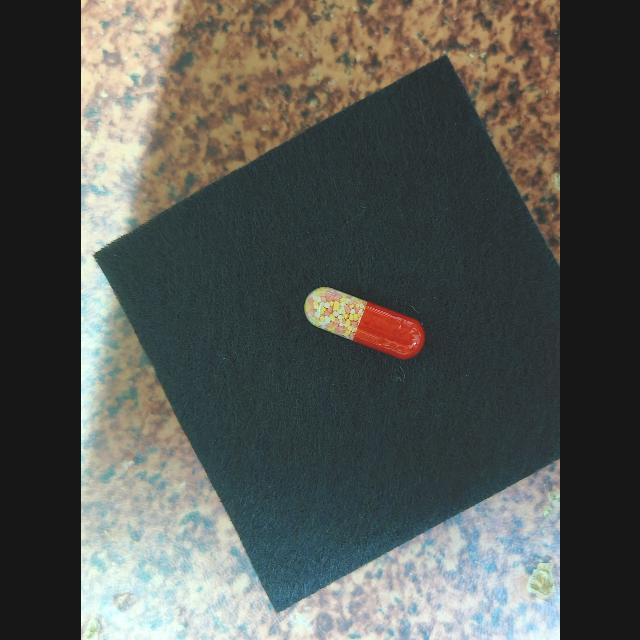Intact Capsule: (304, 287, 424, 359)
